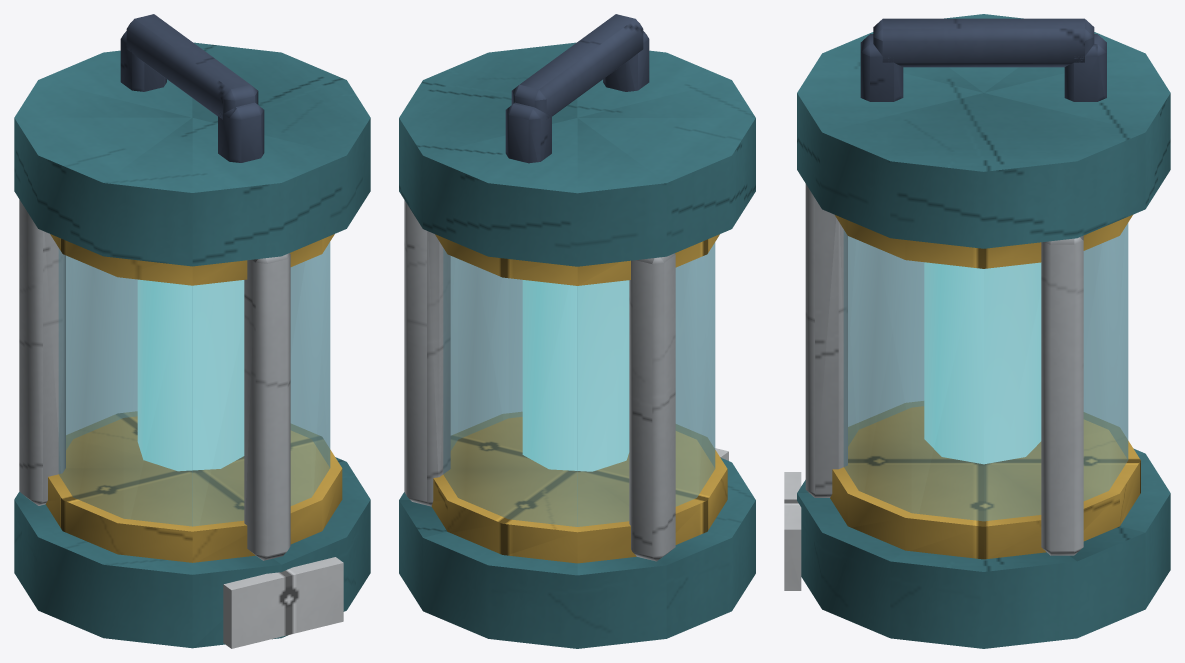
File: standard_capsule.glb
3 views of the same model, side by side, from view 1: azimuth 30°, elevation 25°; view 2: azimuth 150°, elevation 25°; view 3: azimuth 270°, elevation 25° (orthographic). The views are drawn at different scales.
Visible parts, largest first — view 1: DL004_StandardCapsule_teal_shell, DL004_StandardCapsule_glass_cyan, DL004_StandardCapsule_amber_accent, DL004_StandardCapsule_titanium, DL004_StandardCapsule_emissive_cyan, DL004_StandardCapsule_graphite_navy, DL004_StandardCapsule_hull_offwhite; view 2: DL004_StandardCapsule_teal_shell, DL004_StandardCapsule_glass_cyan, DL004_StandardCapsule_amber_accent, DL004_StandardCapsule_titanium, DL004_StandardCapsule_emissive_cyan, DL004_StandardCapsule_graphite_navy; view 3: DL004_StandardCapsule_teal_shell, DL004_StandardCapsule_glass_cyan, DL004_StandardCapsule_amber_accent, DL004_StandardCapsule_titanium, DL004_StandardCapsule_emissive_cyan, DL004_StandardCapsule_graphite_navy, DL004_StandardCapsule_hull_offwhite.
Boxes of the visible parts, left/top/right/bottom form: DL004_StandardCapsule_teal_shell: left=14, top=42, right=370, bottom=648; DL004_StandardCapsule_glass_cyan: left=58, top=242, right=330, bottom=526; DL004_StandardCapsule_amber_accent: left=45, top=234, right=342, bottom=562; DL004_StandardCapsule_titanium: left=19, top=199, right=290, bottom=560; DL004_StandardCapsule_emissive_cyan: left=137, top=279, right=244, bottom=471; DL004_StandardCapsule_graphite_navy: left=120, top=14, right=264, bottom=162; DL004_StandardCapsule_hull_offwhite: left=223, top=557, right=343, bottom=648; DL004_StandardCapsule_teal_shell: left=399, top=42, right=755, bottom=648; DL004_StandardCapsule_glass_cyan: left=443, top=242, right=715, bottom=526; DL004_StandardCapsule_amber_accent: left=431, top=234, right=727, bottom=563; DL004_StandardCapsule_titanium: left=404, top=200, right=675, bottom=561; DL004_StandardCapsule_emissive_cyan: left=522, top=280, right=629, bottom=471; DL004_StandardCapsule_graphite_navy: left=505, top=14, right=649, bottom=163; DL004_StandardCapsule_teal_shell: left=797, top=14, right=1170, bottom=648; DL004_StandardCapsule_glass_cyan: left=843, top=223, right=1128, bottom=521; DL004_StandardCapsule_amber_accent: left=830, top=215, right=1140, bottom=559; DL004_StandardCapsule_titanium: left=805, top=184, right=1083, bottom=555; DL004_StandardCapsule_emissive_cyan: left=924, top=262, right=1041, bottom=464; DL004_StandardCapsule_graphite_navy: left=860, top=18, right=1106, bottom=101; DL004_StandardCapsule_hull_offwhite: left=784, top=472, right=801, bottom=590.
Bounding box in the file's own units: 0.44 × 0.71 × 0.455.
7 materials, 5 textured.
